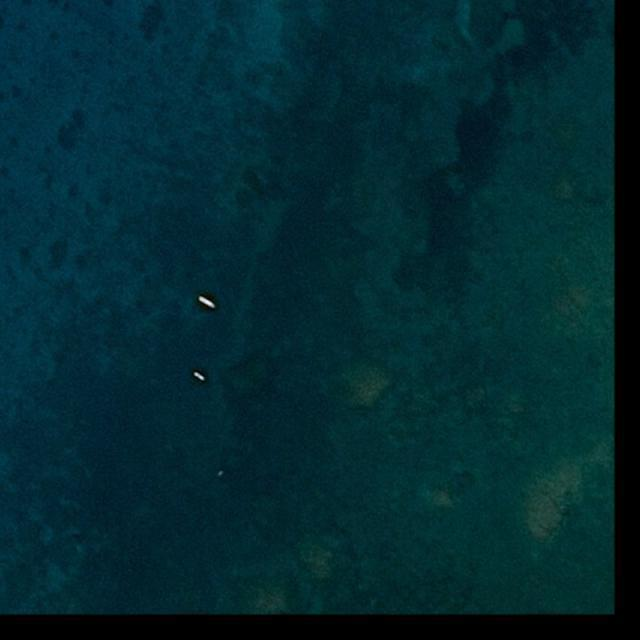ship: (198, 297, 216, 309), (193, 370, 206, 382), (216, 470, 225, 479)
